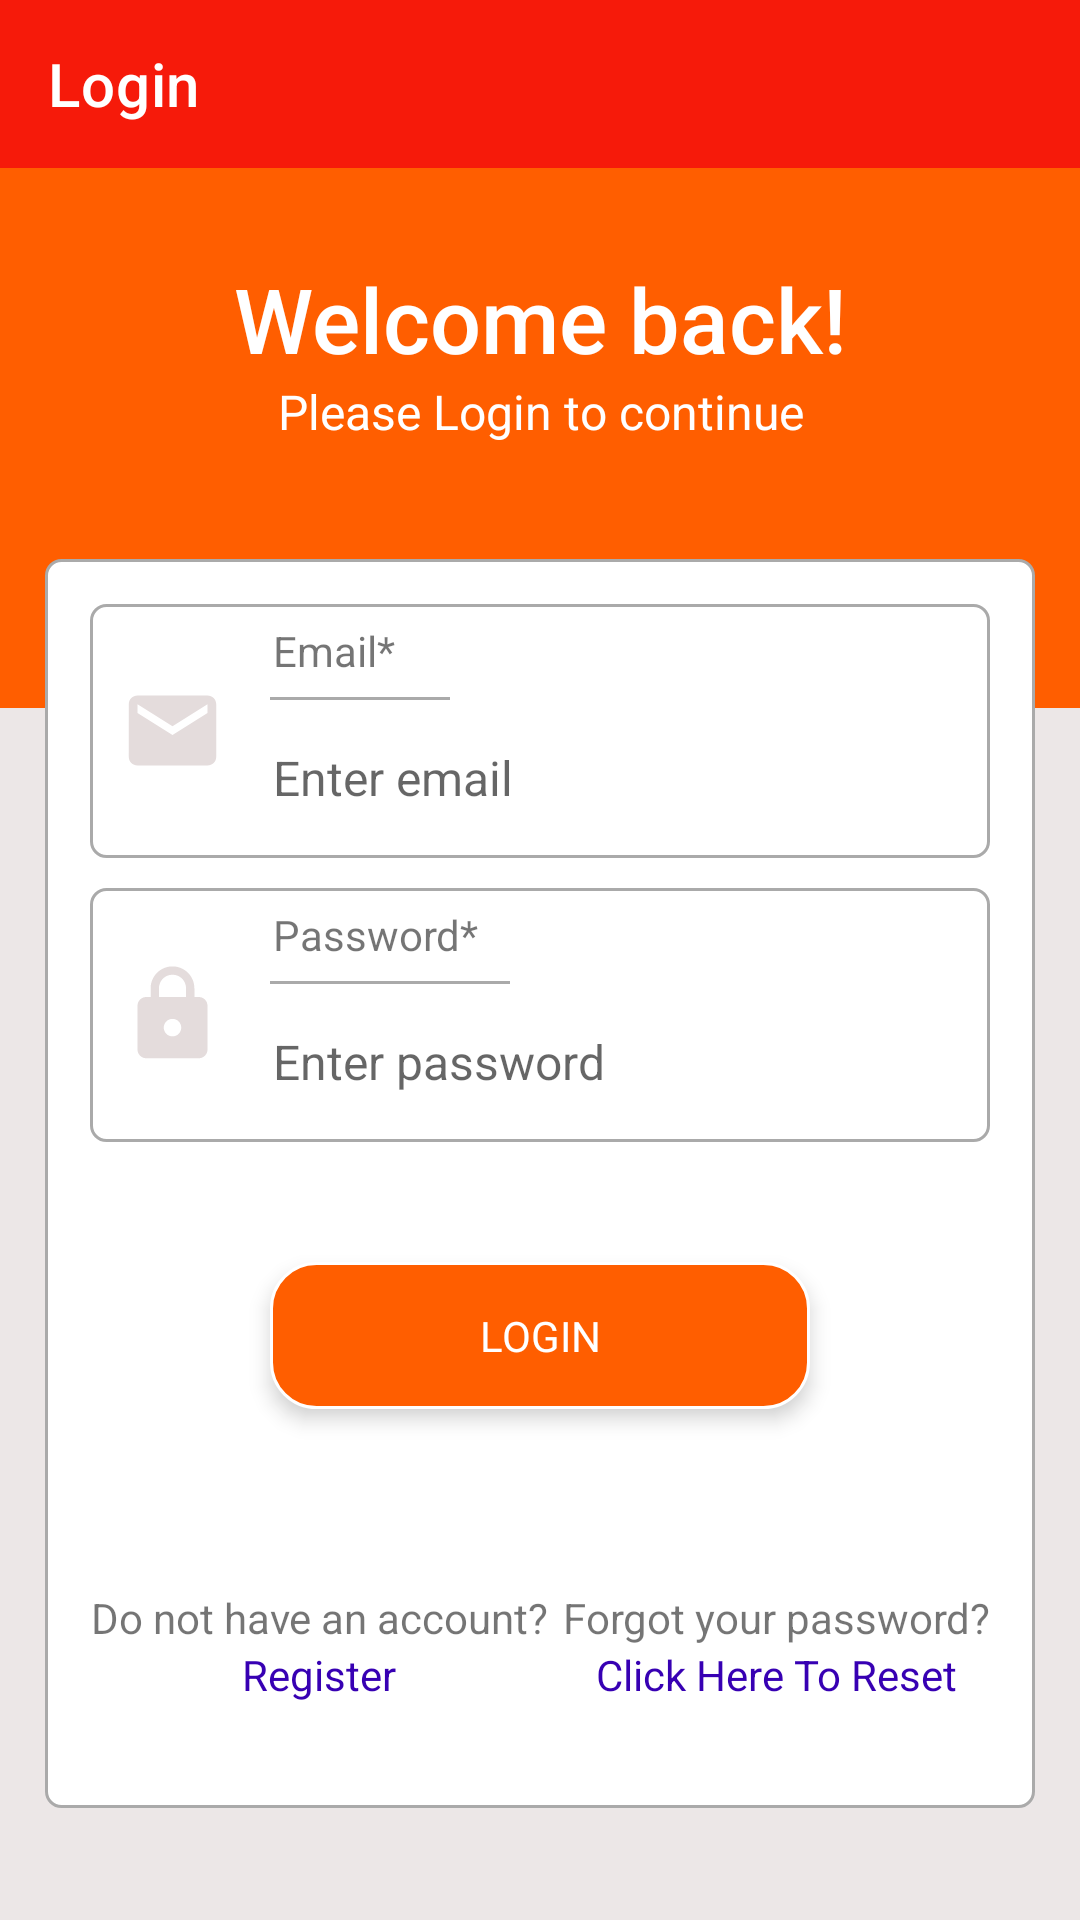

Icons on this 1080*1920 Android screen, each with its box as (x1, y1, x2, y2):
lock: (138, 967, 207, 1058)
